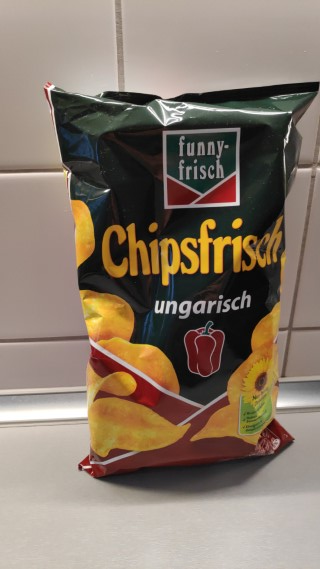chipsfrisch: (38, 78, 320, 480)
